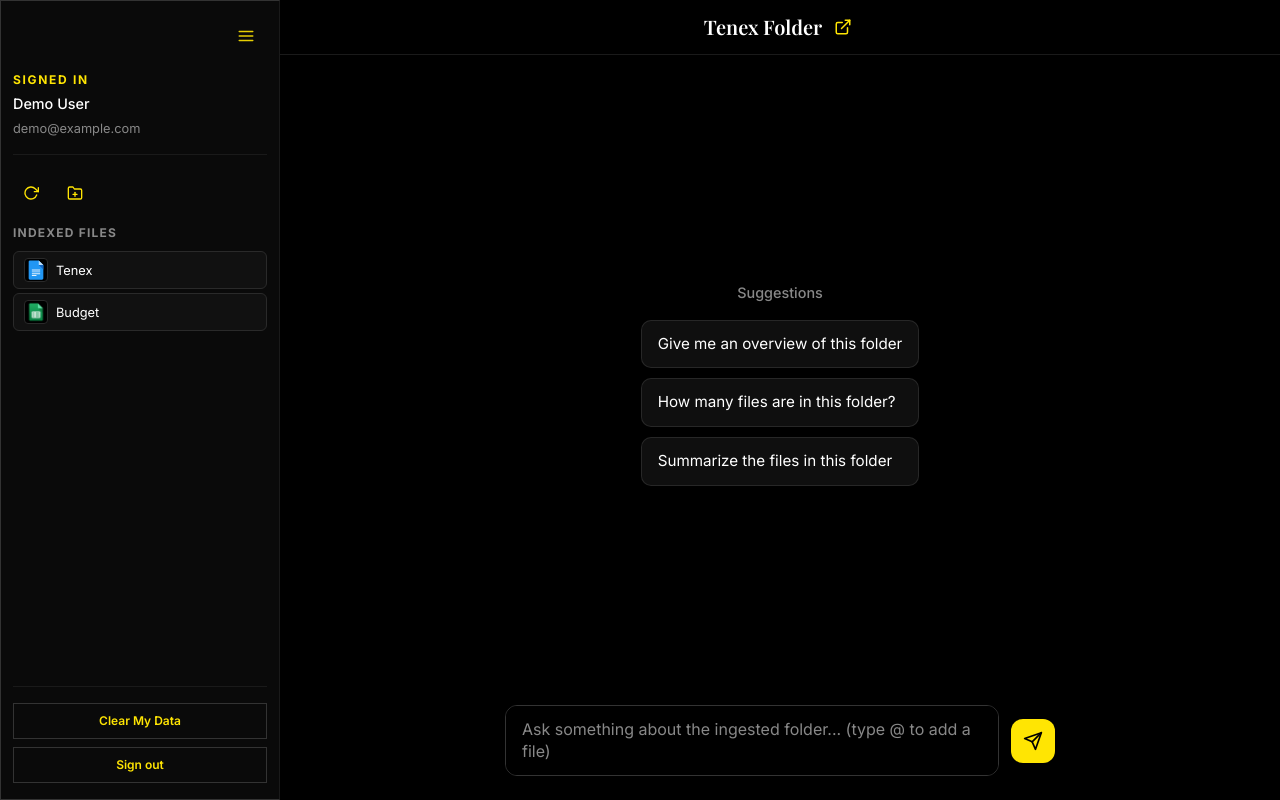
Test case: DashboardPage › shows toast and keeps workspace when files are already synced on resync
What coordinates should you click on to do the following:
click the button titled "Re-sync folder"
I would click on:
 (31, 193)
Its box is [13,175,49,211].
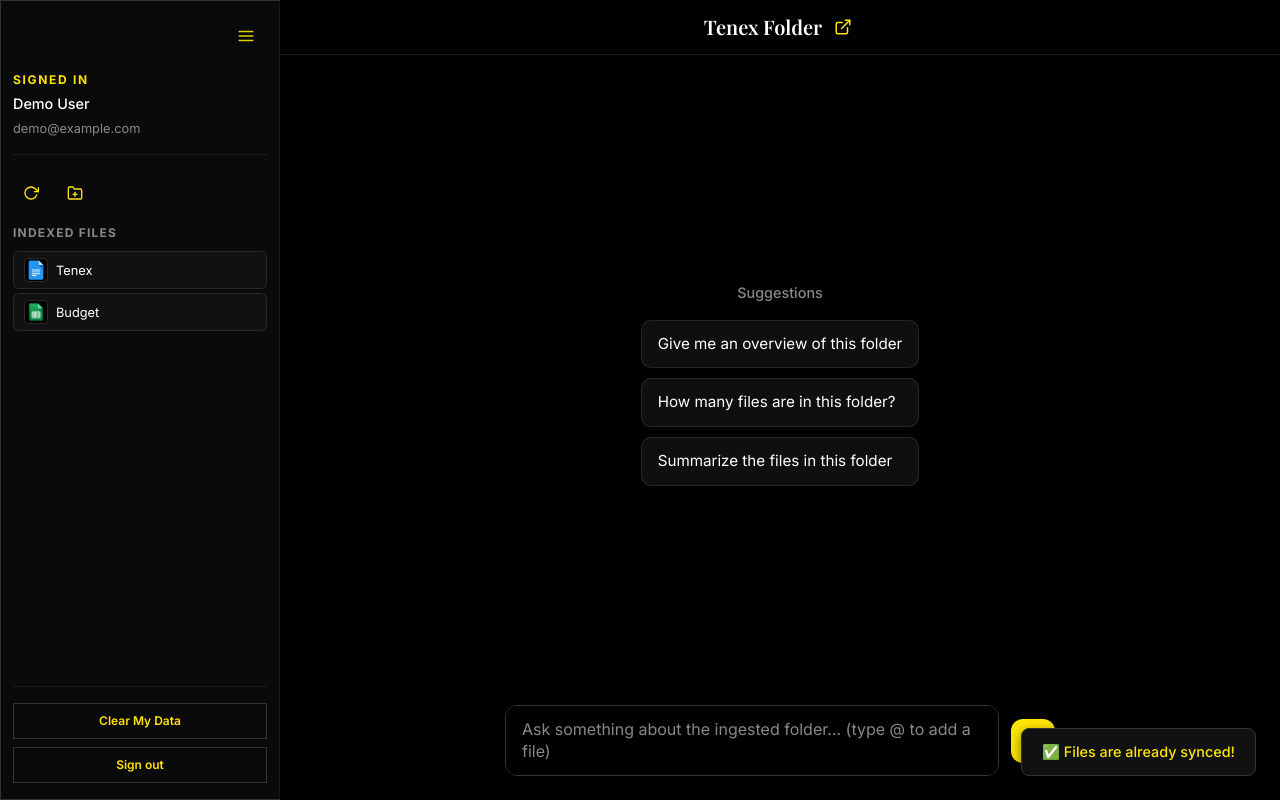
Check: the text box with placeholder "Ask something about the ingested folder... (type @ to add a file)" is shown, box [506,706,998,775]
Check: the text "✅ Files are already synced!" is shown, box [1021,728,1256,776]
